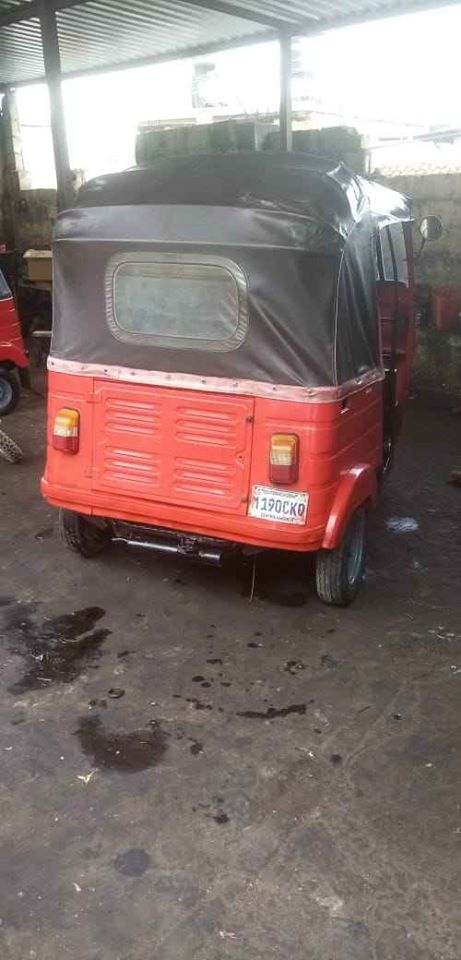mototaxi: (38, 155, 444, 613)
